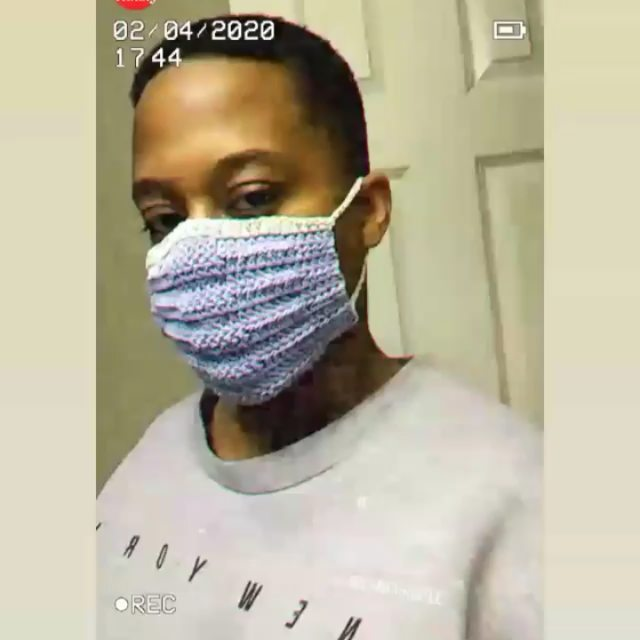homemade: (123, 225, 365, 413)
